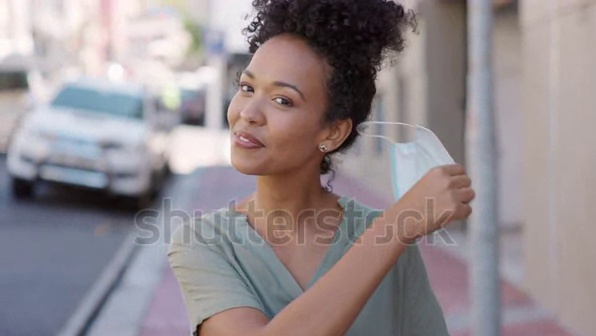No Mask: (214, 116, 316, 179)
